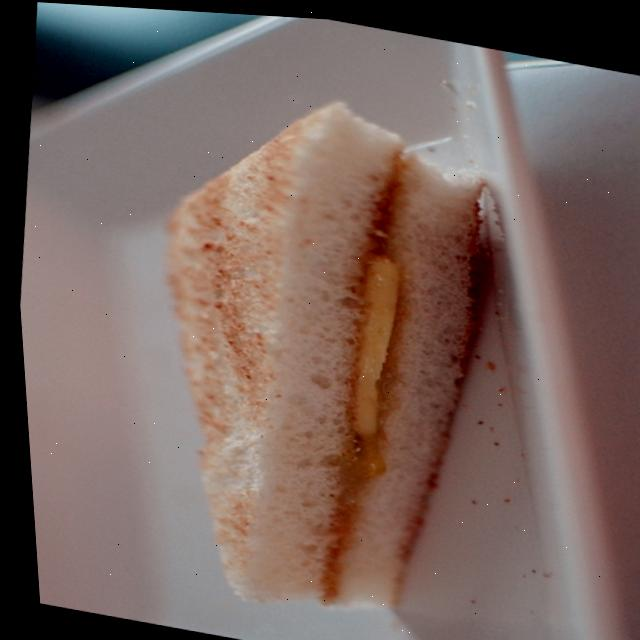面包点心: (58, 59, 538, 640)
